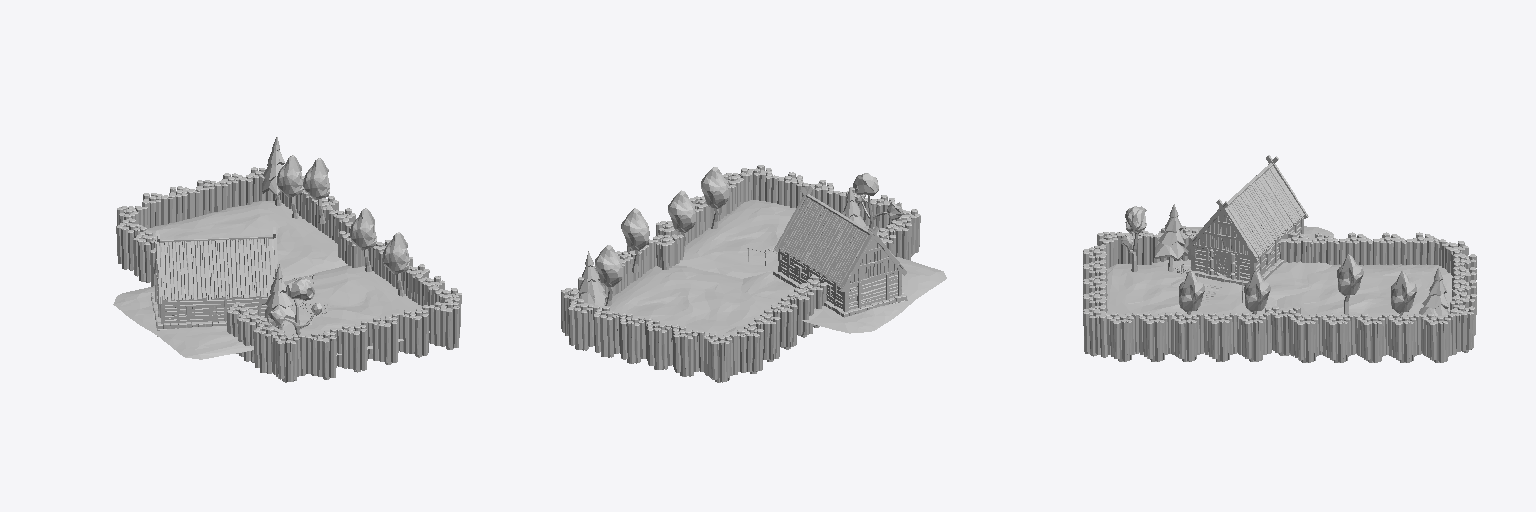
File: village.obj
The picture shows the model from 3 angles: view 1: azimuth 30°, elevation 25°; view 2: azimuth 150°, elevation 25°; view 3: azimuth 270°, elevation 25°; orthographic projection.
Parts seen in each view (by area): view 1: rpgpp_lt_wood_path_01a_rpgpp_st_wood_path_02b.001; view 2: rpgpp_lt_wood_path_01a_rpgpp_st_wood_path_02b.001; view 3: rpgpp_lt_wood_path_01a_rpgpp_st_wood_path_02b.001.
Boxes of the visible parts, x1=… form: rpgpp_lt_wood_path_01a_rpgpp_st_wood_path_02b.001: x1=113, y1=137, x2=461, y2=382; rpgpp_lt_wood_path_01a_rpgpp_st_wood_path_02b.001: x1=561, y1=165, x2=946, y2=382; rpgpp_lt_wood_path_01a_rpgpp_st_wood_path_02b.001: x1=1083, y1=155, x2=1476, y2=362.
Size of the model in its own units: 30.61 by 11.78 by 41.43.